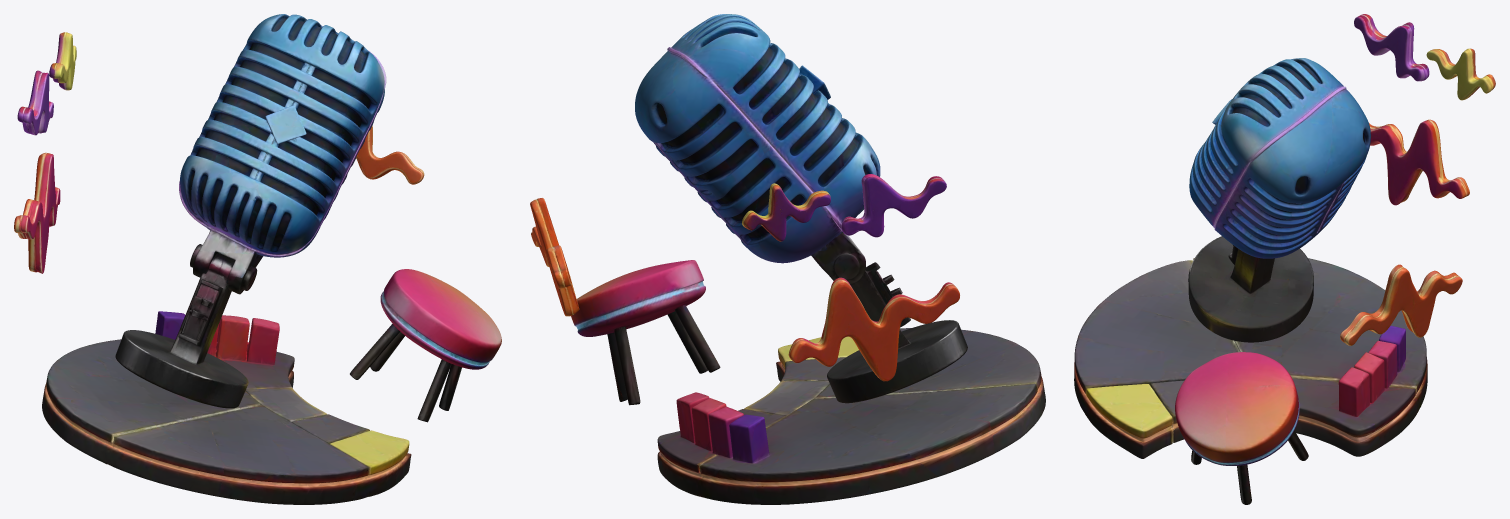
File: home-talk.glb
3 renders of one model, left to right at view 1: azimuth 30°, elevation 25°; view 2: azimuth 150°, elevation 25°; view 3: azimuth 270°, elevation 25°, orthographic. The views are drawn at different scales.
Parts seen in each view (by area): view 1: tripo_part_1, tripo_part_0, tripo_part_3, tripo_part_5, tripo_part_2, tripo_part_4, tripo_part_6, tripo_part_7; view 2: tripo_part_1, tripo_part_0, tripo_part_3, tripo_part_5, tripo_part_2, tripo_part_6, tripo_part_4, tripo_part_7; view 3: tripo_part_1, tripo_part_0, tripo_part_3, tripo_part_5, tripo_part_2, tripo_part_4, tripo_part_6, tripo_part_7.
Boxes of the visible parts, box(x1,y1,x2,y2) form: tripo_part_1: box(42, 311, 411, 504); tripo_part_0: box(179, 14, 386, 294); tripo_part_3: box(350, 269, 501, 422); tripo_part_5: box(115, 253, 248, 408); tripo_part_2: box(14, 152, 60, 273); tripo_part_4: box(356, 125, 424, 184); tripo_part_6: box(17, 70, 53, 135); tripo_part_7: box(49, 32, 76, 90); tripo_part_1: box(657, 328, 1045, 504); tripo_part_0: box(635, 14, 880, 284); tripo_part_3: box(571, 260, 720, 405); tripo_part_5: box(827, 262, 967, 403); tripo_part_2: box(788, 277, 959, 381); tripo_part_6: box(841, 174, 946, 237); tripo_part_4: box(530, 198, 579, 316); tripo_part_7: box(742, 183, 830, 241); tripo_part_1: box(1074, 258, 1427, 458); tripo_part_0: box(1189, 58, 1370, 258); tripo_part_3: box(1175, 352, 1308, 504); tripo_part_5: box(1188, 236, 1313, 342); tripo_part_2: box(1369, 119, 1469, 205); tripo_part_4: box(1340, 264, 1462, 345); tripo_part_6: box(1354, 14, 1429, 81); tripo_part_7: box(1426, 48, 1495, 100).
Bounding box in the file's own units: 0.9798 × 0.8985 × 0.8977.
8 materials, 8 textured.
